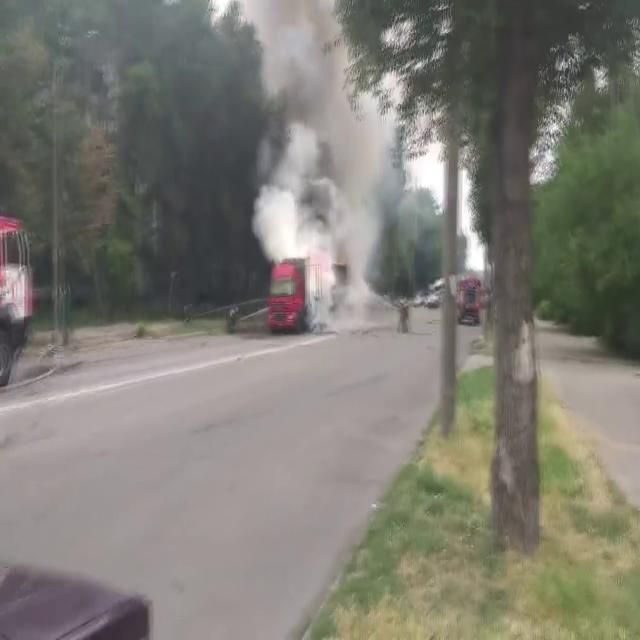Smoke: (242, 4, 482, 283)
